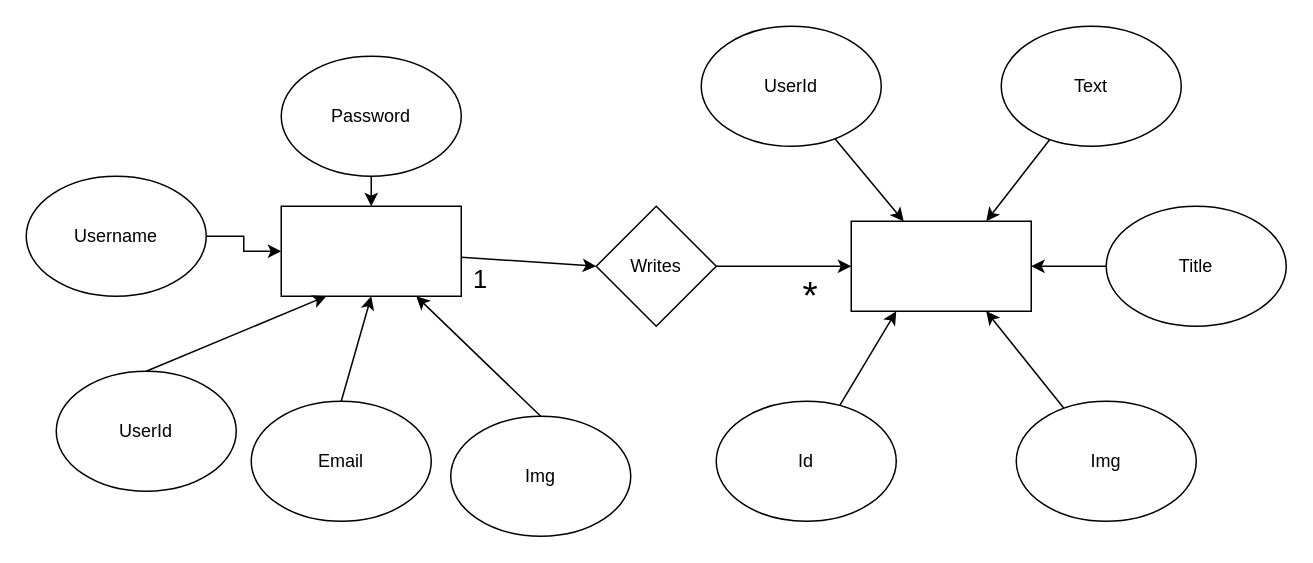
This 1313x563 diagram has some shape labels left out. The centre of each missing label's shape, as x and y in pixels:
POSTS: point 940,265
USERS: point 370,250
